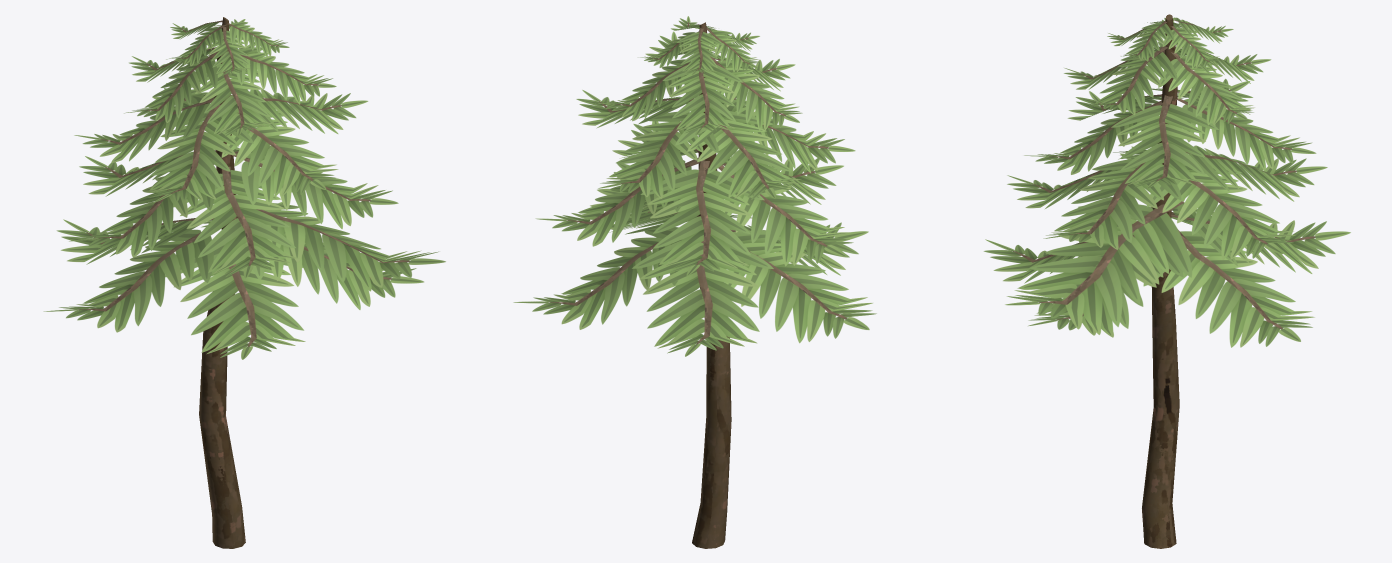
File: Pine_4.glb
The picture shows the model from 3 angles, left to right: view 1: azimuth 30°, elevation 25°; view 2: azimuth 150°, elevation 25°; view 3: azimuth 270°, elevation 25°; orthographic projection.
Parts seen in each view (by area): view 1: Pine_4; view 2: Pine_4; view 3: Pine_4.
Boxes of the visible parts, x1,y1,x2,y2 form: Pine_4: [43, 17, 445, 548]; Pine_4: [513, 16, 876, 548]; Pine_4: [983, 14, 1350, 548].
Size of the model in its own units: 4.31 by 5.67 by 4.18.
2 materials, 2 textured.
